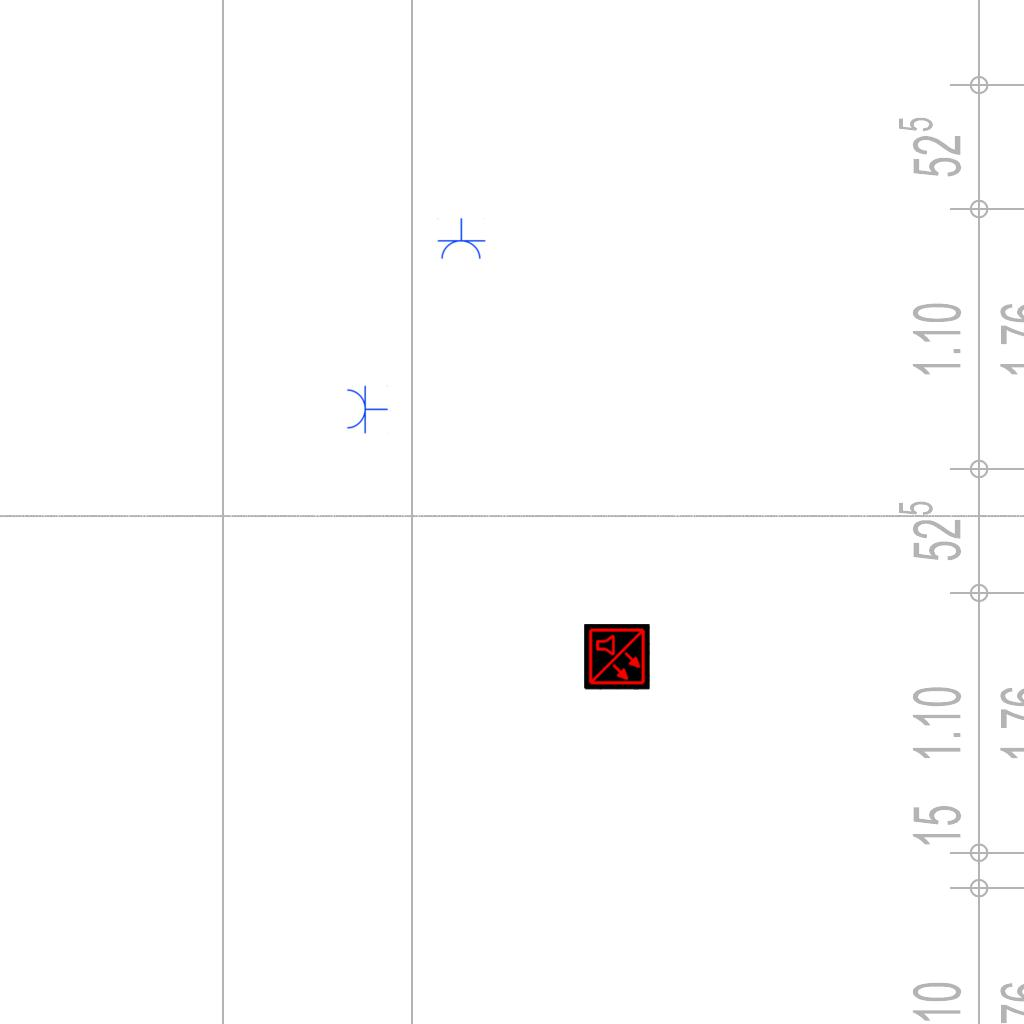OKW_Multisensormelder_(Kombination_optischer_Rauch-Kahlenmonoxid_Waerme-Melder): (584, 624, 650, 690)
Schukosteckdose_einfach: (345, 384, 388, 434), (436, 218, 486, 261)
